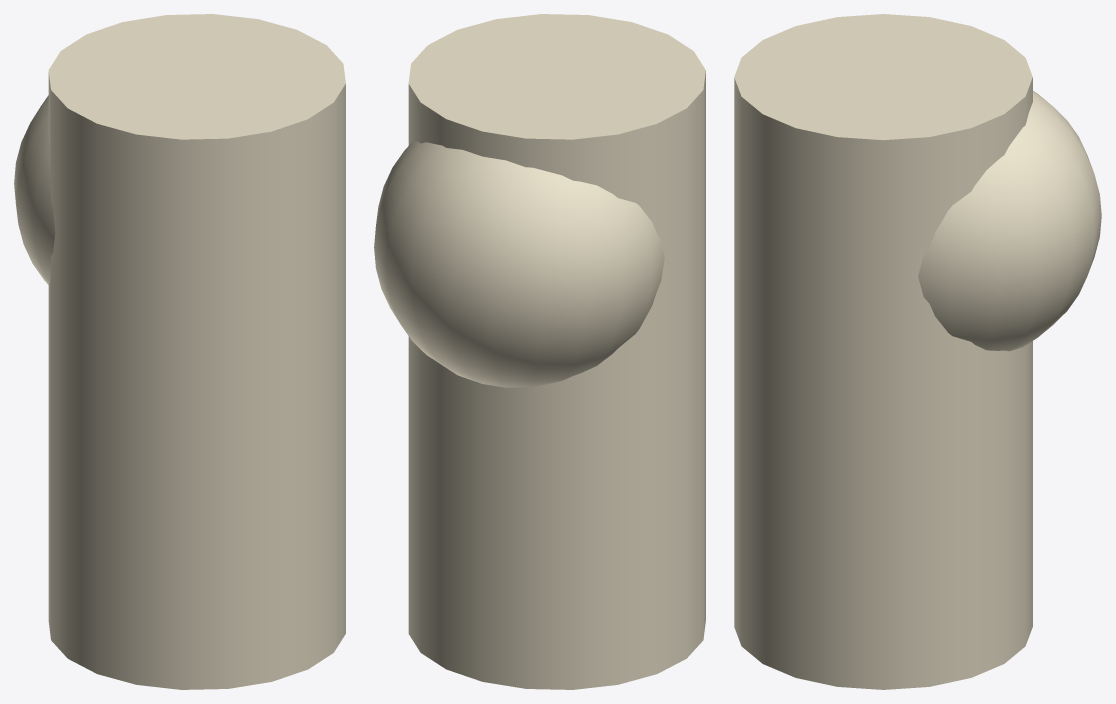
The model's file is Player.fbx.
The picture shows the model from 3 angles, left to right: view 1: azimuth 30°, elevation 25°; view 2: azimuth 150°, elevation 25°; view 3: azimuth 270°, elevation 25°; orthographic projection.
Parts seen in each view (by area): view 1: pCylinder2; view 2: pCylinder2; view 3: pCylinder2.
Part boxes in pixels (x1=…): pCylinder2: x1=14, y1=14, x2=345, y2=689; pCylinder2: x1=374, y1=14, x2=705, y2=689; pCylinder2: x1=734, y1=14, x2=1101, y2=689.
Size of the model in its own units: 2 by 4.06 by 2.46.
